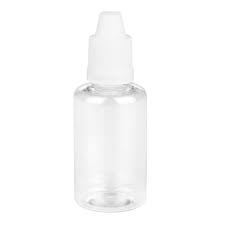available: (68, 1, 152, 218)
